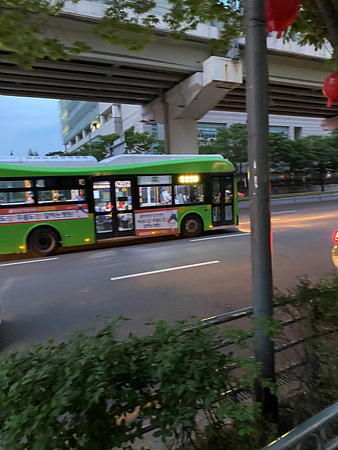entrance: (209, 174, 237, 226)
